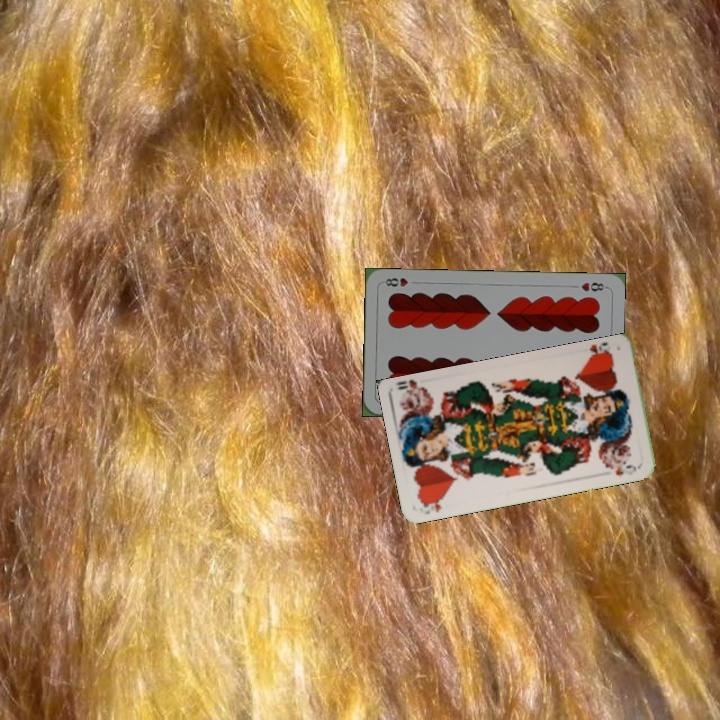H8: (577, 278, 609, 294)
HO: (583, 339, 615, 363), (417, 494, 446, 517)
